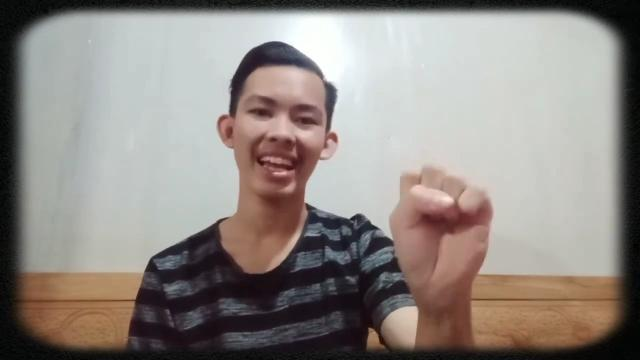S: (382, 161, 503, 303)
